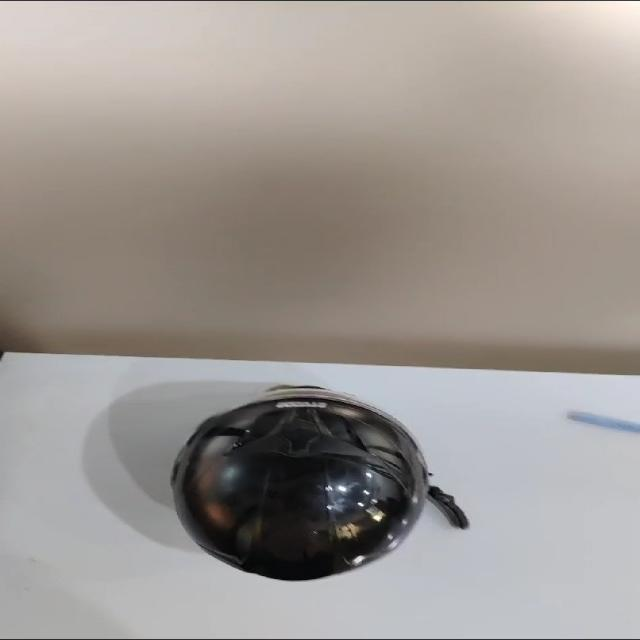helmet: (157, 384, 476, 601)
